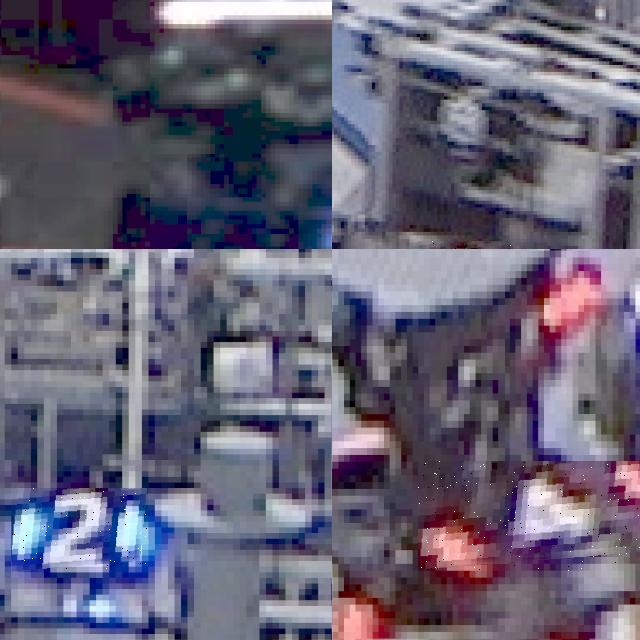B2: (12, 488, 148, 572)
R4: (418, 461, 640, 570), (332, 540, 392, 640), (518, 591, 640, 640)
